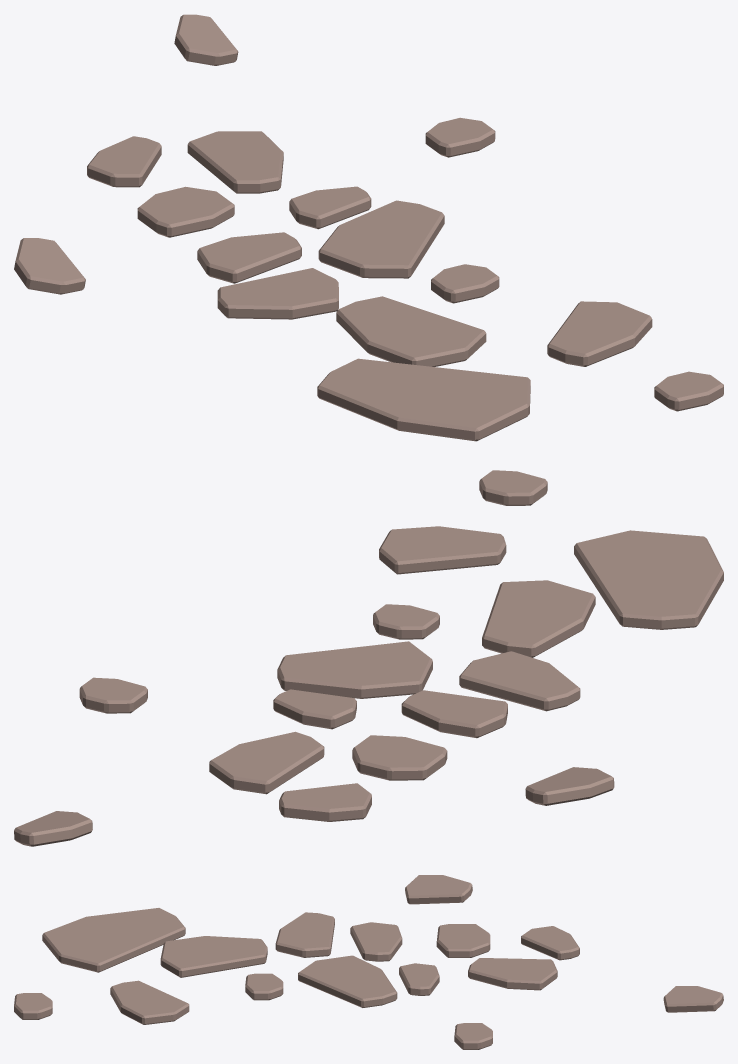
File: GroupLiitleRock_2.fbx
3 renders of one model, top to bottom at view 1: azimuth 30°, elevation 25°; view 2: azimuth 150°, elevation 25°; view 3: azimuth 270°, elevation 25°, orthographic. The views are drawn at different scales.
Parts seen in each view (by area): view 1: LittleRock_3.013, LittleRock_3.006, LittleRock_3.005, LittleRock_3.007, LittleRock_3.014, LittleRock_3.004, LittleRock_3.010, LittleRock_3.002, LittleRock_3.011, LittleRock_3.003, LittleRock_3.012, LittleRock_3.016 (+3 smaller); view 2: LittleRock_3.013, LittleRock_3.005, LittleRock_3.006, LittleRock_3.014, LittleRock_3.007, LittleRock_3.004, LittleRock_3.010, LittleRock_3.002, LittleRock_3.003, LittleRock_3.012, LittleRock_3.011, LittleRock_3.009 (+3 smaller); view 3: LittleRock_3.013, LittleRock_3.006, LittleRock_3.005, LittleRock_3.004, LittleRock_3.014, LittleRock_3.007, LittleRock_3.011, LittleRock_3.010, LittleRock_3.002, LittleRock_3.003, LittleRock_3.016, LittleRock_3.012 (+3 smaller).
Boxes of the visible parts, box(x1,y1,x2,y2) form: LittleRock_3.013: box(317, 358, 530, 441); LittleRock_3.006: box(336, 296, 486, 366); LittleRock_3.005: box(318, 200, 444, 278); LittleRock_3.007: box(217, 268, 338, 319); LittleRock_3.014: box(547, 301, 652, 366); LittleRock_3.004: box(187, 131, 283, 193); LittleRock_3.010: box(197, 232, 301, 283); LittleRock_3.002: box(137, 186, 234, 237); LittleRock_3.011: box(14, 238, 85, 294); LittleRock_3.003: box(87, 136, 161, 187); LittleRock_3.012: box(289, 186, 371, 229); LittleRock_3.016: box(174, 14, 238, 65); LittleRock_3.013: box(574, 530, 723, 629); LittleRock_3.005: box(277, 641, 432, 698); LittleRock_3.006: box(482, 580, 595, 657); LittleRock_3.014: box(379, 526, 506, 574); LittleRock_3.007: box(459, 651, 580, 711); LittleRock_3.004: box(209, 731, 324, 794); LittleRock_3.010: box(401, 690, 507, 738); LittleRock_3.002: box(352, 735, 447, 780); LittleRock_3.003: box(279, 783, 371, 821); LittleRock_3.012: box(273, 689, 356, 729); LittleRock_3.011: box(525, 767, 614, 805); LittleRock_3.009: box(79, 677, 147, 713); LittleRock_3.013: box(42, 908, 185, 972); LittleRock_3.006: box(160, 936, 267, 977); LittleRock_3.005: box(298, 955, 397, 1007); LittleRock_3.004: box(468, 958, 557, 990); LittleRock_3.014: box(110, 980, 189, 1024); LittleRock_3.007: box(275, 912, 334, 957); LittleRock_3.011: box(405, 875, 472, 904); LittleRock_3.010: box(350, 922, 402, 961); LittleRock_3.002: box(436, 924, 490, 957); LittleRock_3.003: box(521, 926, 579, 960); LittleRock_3.016: box(663, 986, 723, 1012); LittleRock_3.012: box(399, 963, 439, 995).
Bounding box in the file's own units: 499 × 30.46 × 883.
